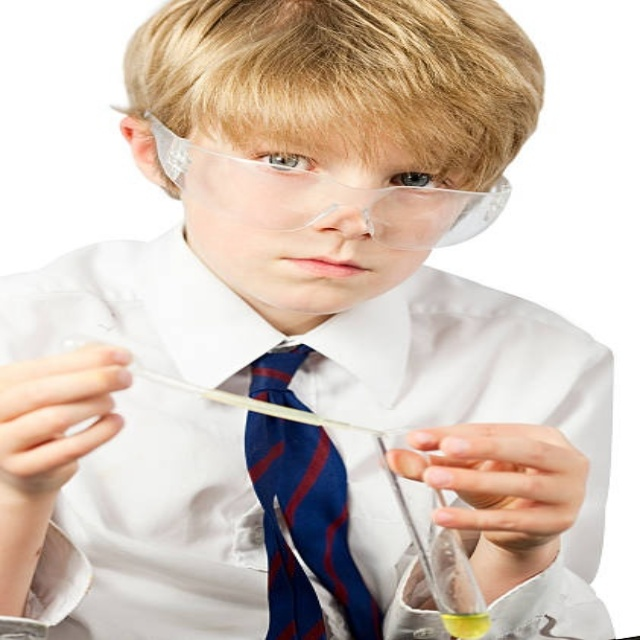Gafas: (147, 113, 512, 251)
Sin_guantes: (386, 420, 591, 554), (0, 342, 134, 506)
Sin_mascara: (257, 252, 385, 310)
